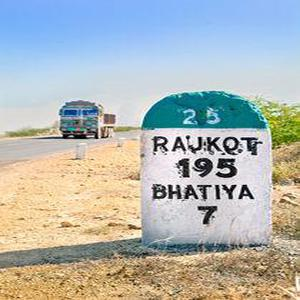kmstone: (139, 90, 274, 254)
